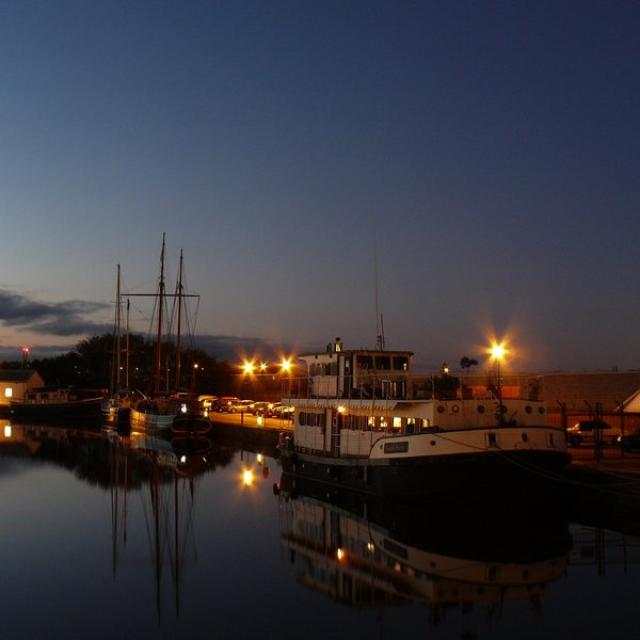Boat: (283, 345, 640, 532), (79, 250, 219, 459)
